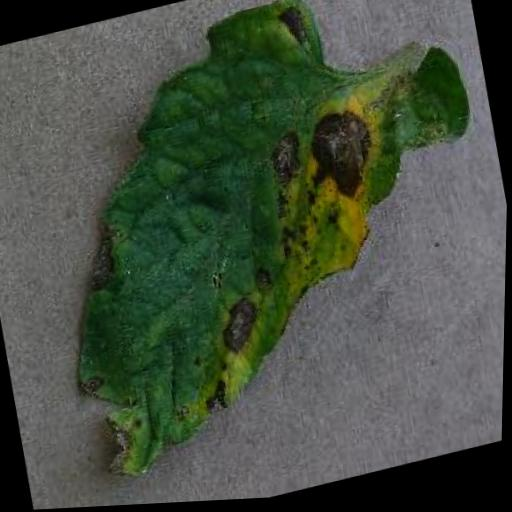Early Blight: (9, 0, 512, 484)
